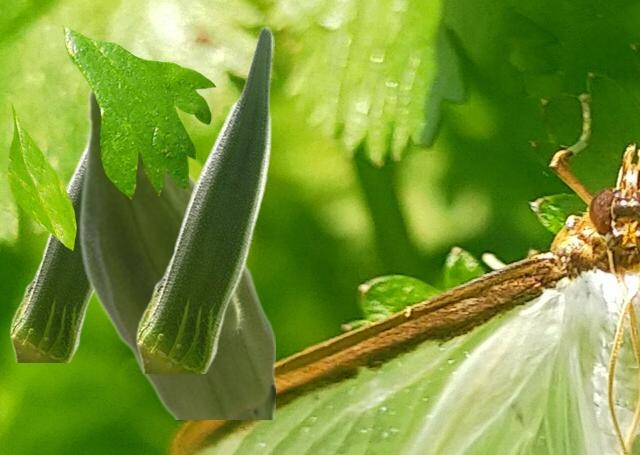okra: (78, 88, 274, 418), (135, 24, 273, 372), (9, 143, 93, 361)
